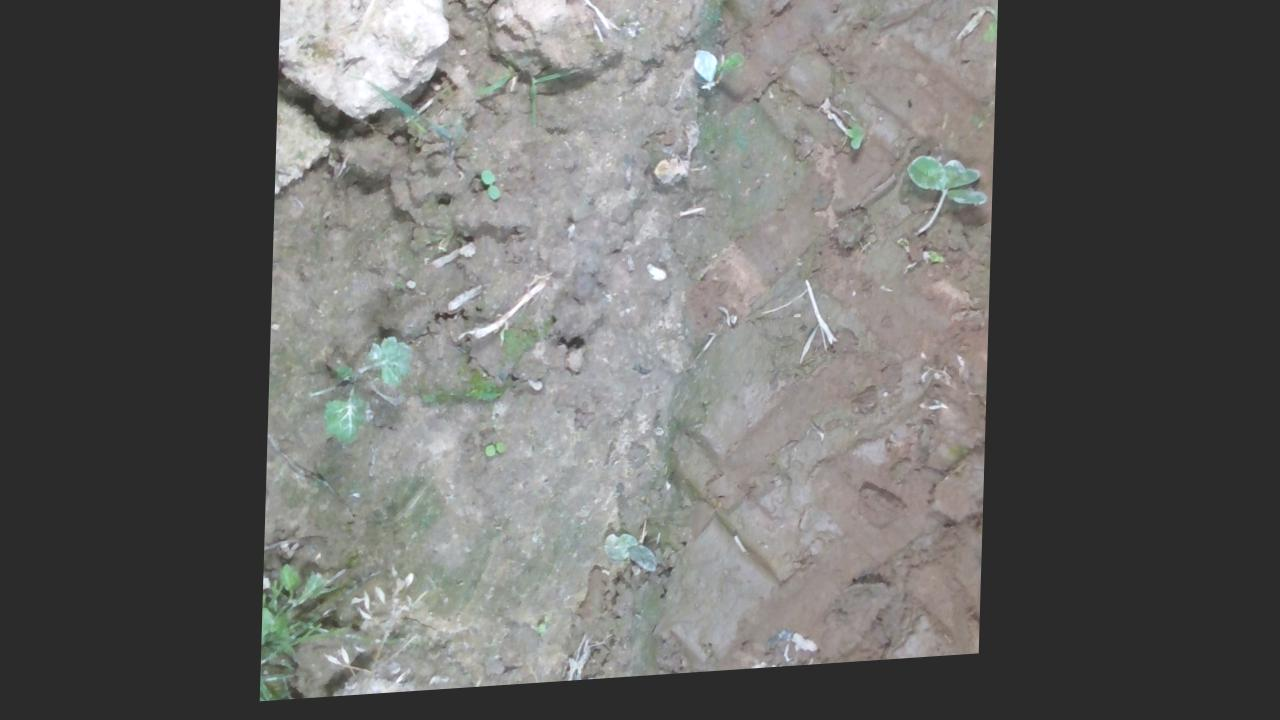weed: (486, 447, 513, 464)
